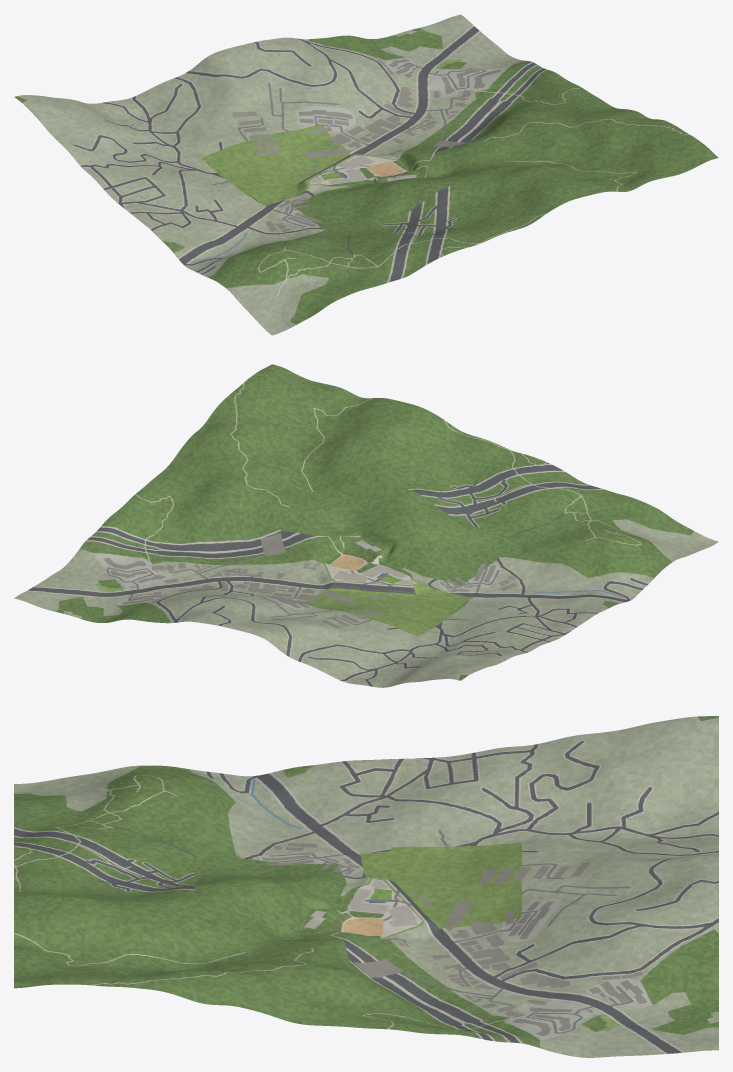
3 views of the same model, one above another, from view 1: azimuth 30°, elevation 25°; view 2: azimuth 150°, elevation 25°; view 3: azimuth 270°, elevation 25° (orthographic). The views are drawn at different scales.
Visible parts, largest first — view 1: ground-area, ground-school; view 2: ground-area, ground-school; view 3: ground-area, ground-school.
Part boxes in pixels (x1,y1,x2,y2): ground-area: [14, 14, 718, 335]; ground-school: [272, 144, 443, 212]; ground-area: [14, 364, 718, 687]; ground-school: [291, 527, 463, 608]; ground-area: [14, 716, 718, 1057]; ground-school: [283, 871, 441, 950].
Bounding box in the file's own units: 1088 × 166 × 1088.
2 materials, 2 textured.
